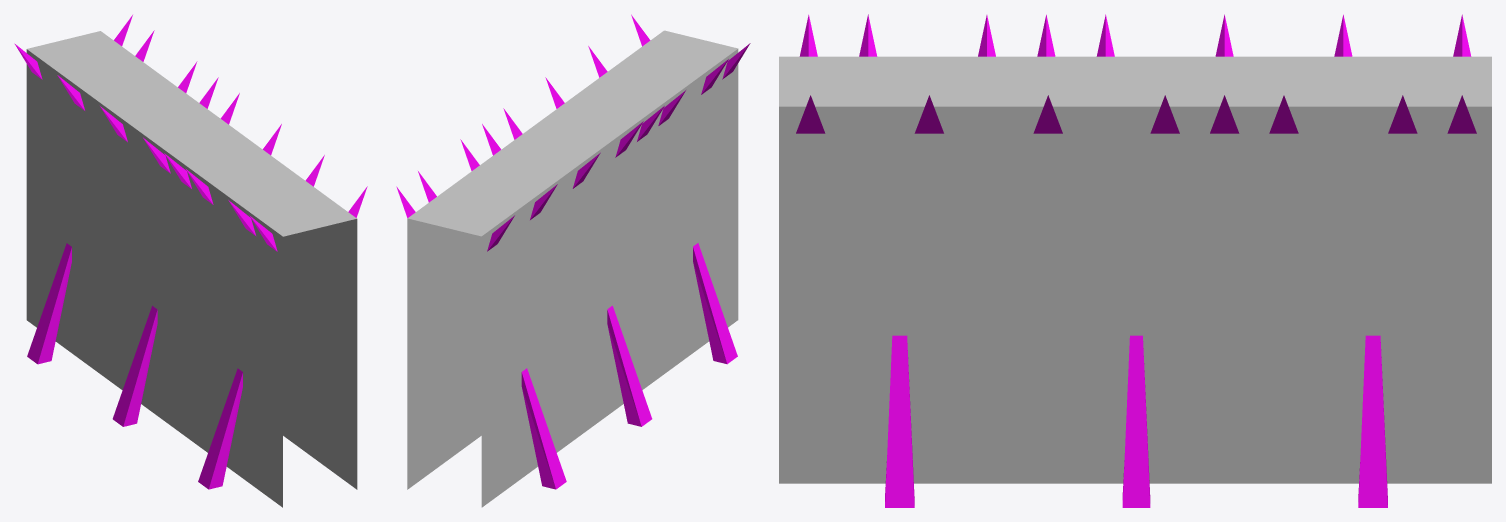
Rendered from ardoungewall.obj.
3 renders of one model, left to right at view 1: azimuth 30°, elevation 25°; view 2: azimuth 150°, elevation 25°; view 3: azimuth 270°, elevation 25°, orthographic. The views are drawn at different scales.
Visible parts, largest first — view 1: ardoungewall_back, ardoungewall_front; view 2: ardoungewall_back, ardoungewall_front; view 3: ardoungewall_front, ardoungewall_back.
Part boxes in pixels (box(x1,y1,x2,y2)): ardoungewall_back: box(26, 15, 367, 507); ardoungewall_front: box(14, 43, 357, 489); ardoungewall_back: box(408, 30, 749, 507); ardoungewall_front: box(396, 14, 750, 489); ardoungewall_front: box(779, 14, 1491, 507); ardoungewall_back: box(779, 14, 1491, 106).
Bounding box in the file's own units: 1.27 × 2.4 × 3.84.
